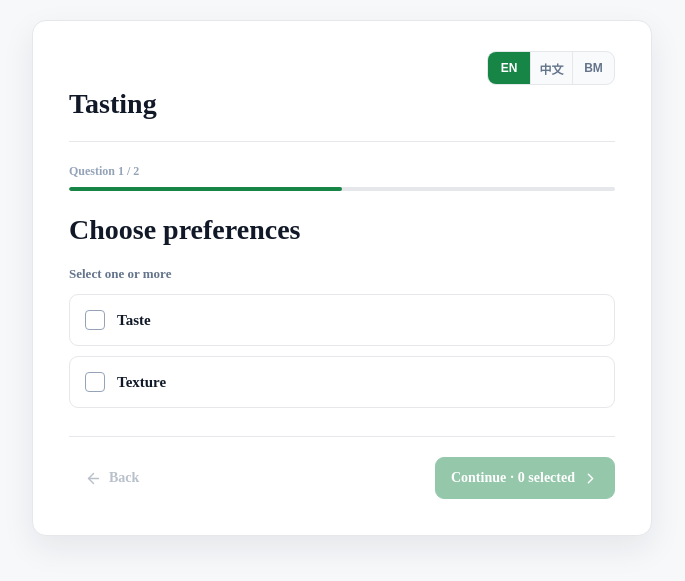
Test: Factory Product Feedback public contract › keeps multiple choice explicit and reports the selected count
Expected: the text "Select one or more" is shown, [69, 266, 171, 281]
Expected: the button "Continue · 0 selected" is disabled, [435, 457, 615, 499]
Click the checkbox "Taste". click: {"x": 134, "y": 320}
box: [69, 294, 615, 346]
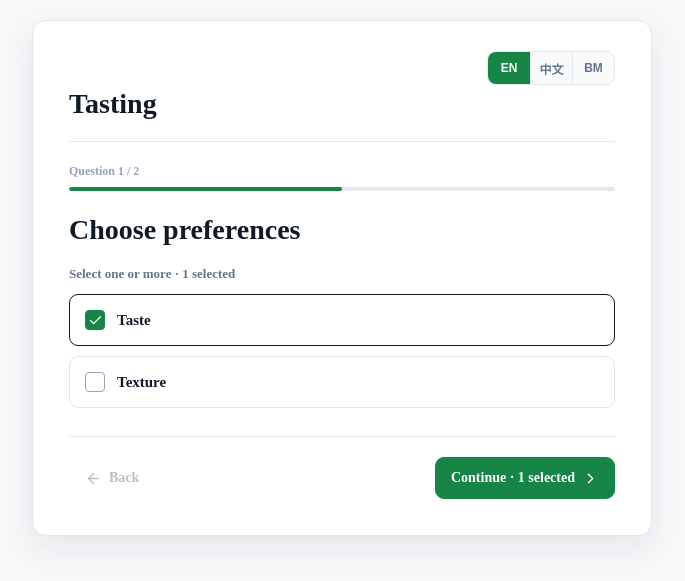
Expected: the text "Select one or more · 1 selected" is shown, [69, 266, 235, 281]
Expected: the button "Continue · 1 selected" is enabled, [435, 457, 615, 499]
